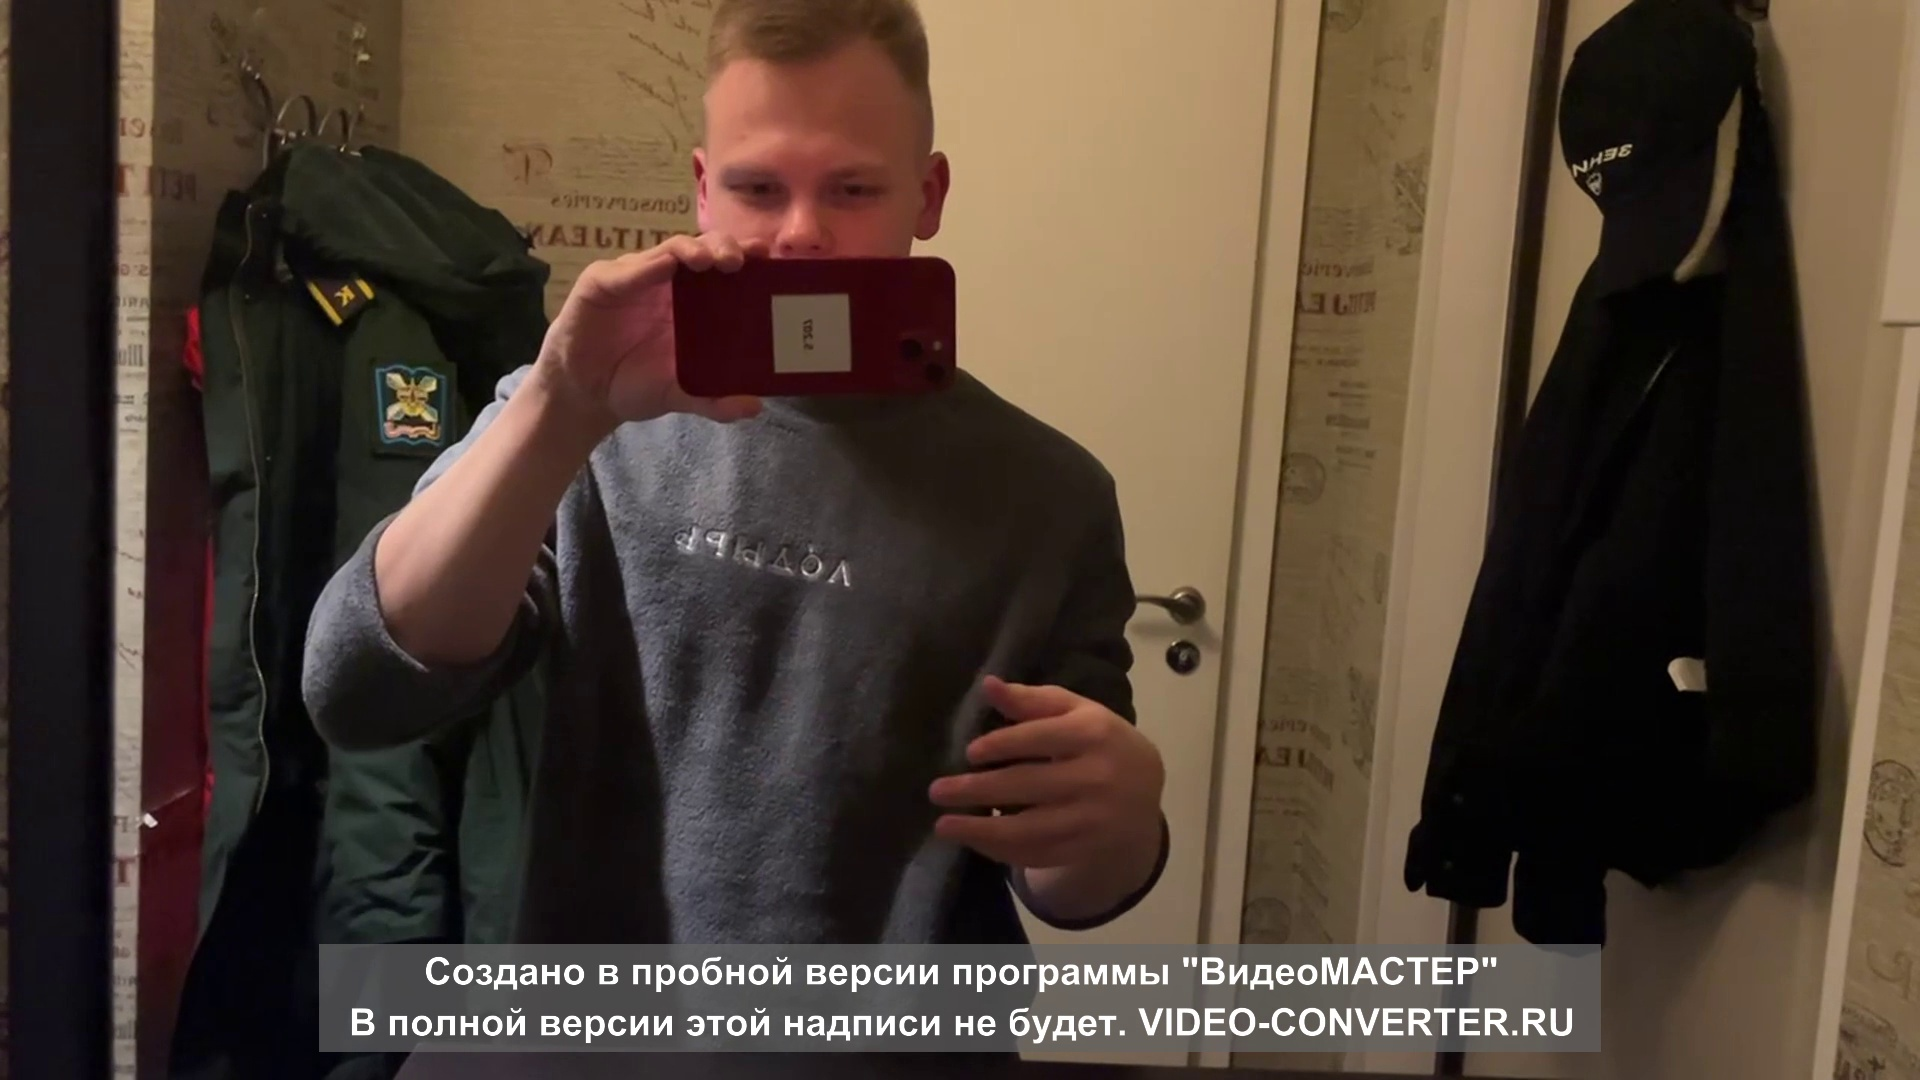Кисть: (928, 666, 1164, 869)
